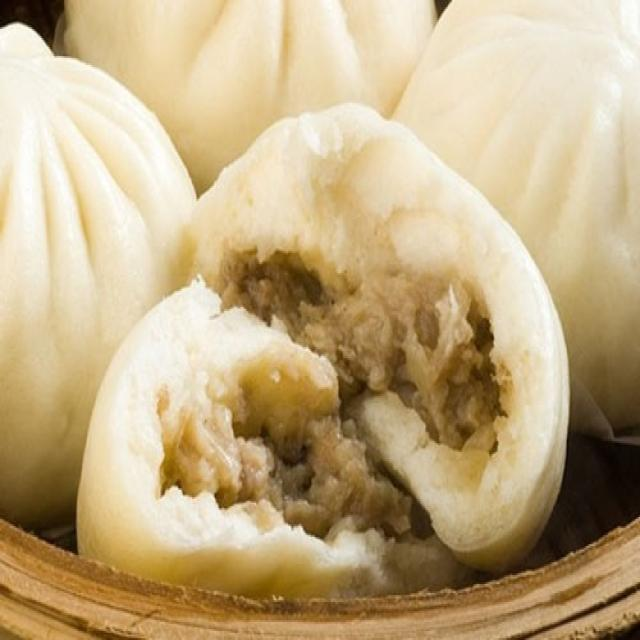带馅早点: (32, 36, 602, 599)
